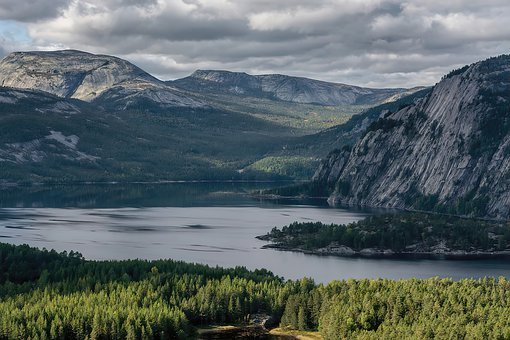forest: (28, 263, 510, 337)
lake: (17, 203, 503, 288)
mountain: (7, 50, 510, 212)
sky: (9, 3, 487, 78)
